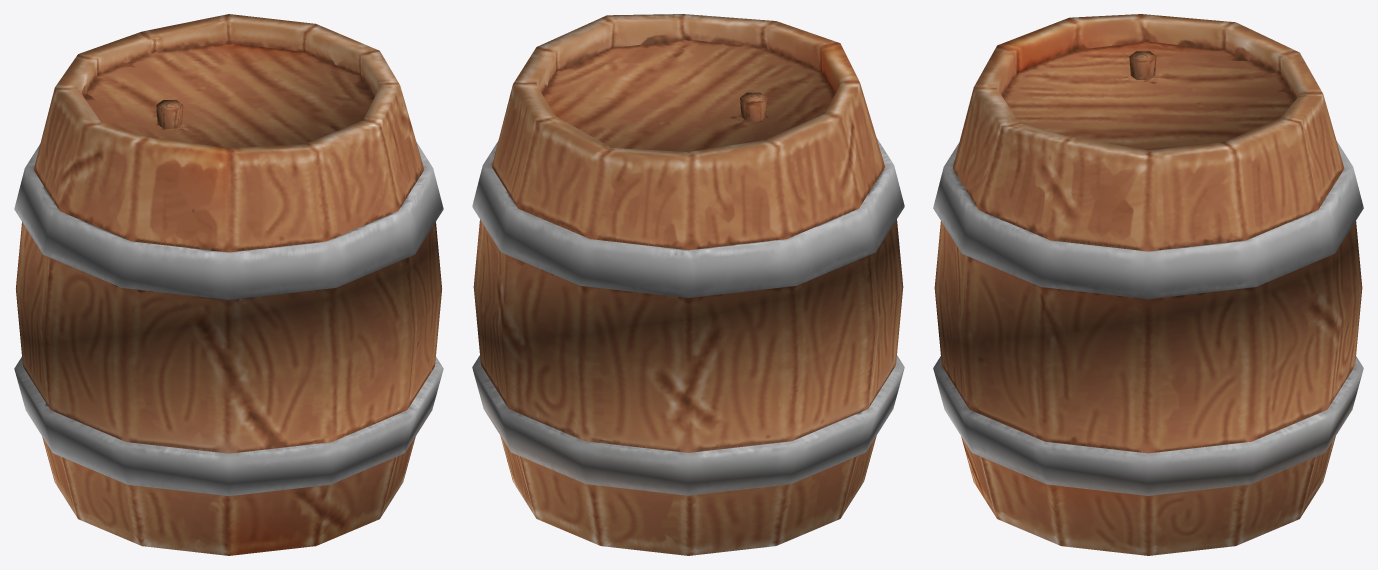
Rendered from barril 1.fbx.
The picture shows the model from 3 angles, left to right: view 1: azimuth 30°, elevation 25°; view 2: azimuth 150°, elevation 25°; view 3: azimuth 270°, elevation 25°; orthographic projection.
Parts seen in each view (by area): view 1: Barrel; view 2: Barrel; view 3: Barrel.
Part boxes in pixels (bbox=[...]): Barrel: bbox=[14, 14, 443, 555]; Barrel: bbox=[472, 14, 904, 555]; Barrel: bbox=[933, 14, 1363, 555].
Bounding box in the file's own units: 98.62 × 101 × 98.62.
